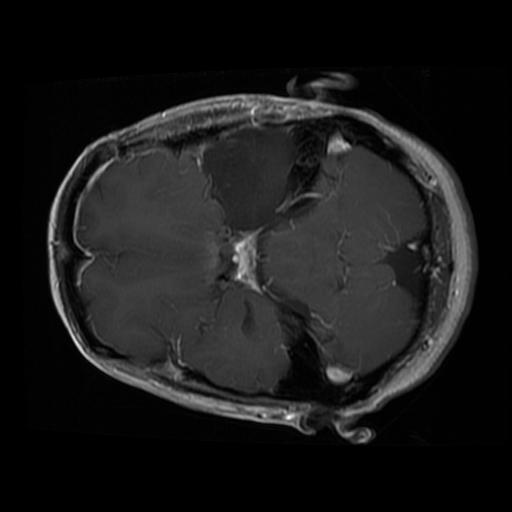glioma: (196, 124, 299, 234)
